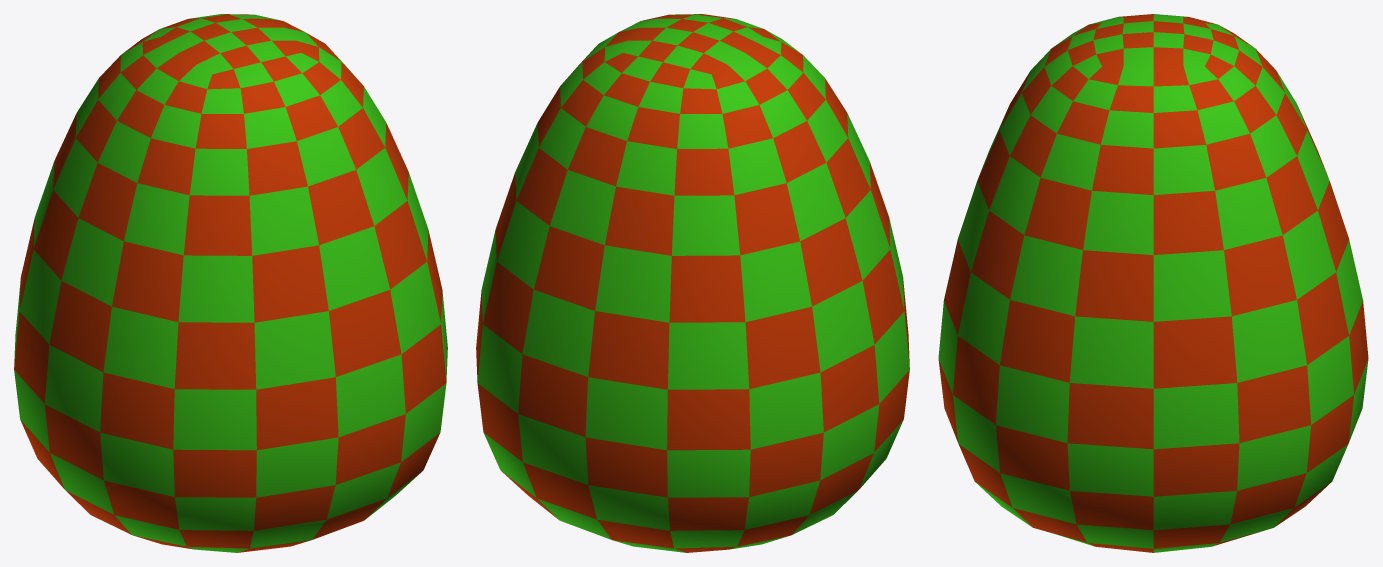
File: huevotres.fbx
The picture shows the model from 3 angles, left to right: view 1: azimuth 30°, elevation 25°; view 2: azimuth 150°, elevation 25°; view 3: azimuth 270°, elevation 25°; orthographic projection.
Parts seen in each view (by area): view 1: Mesh (3); view 2: Mesh (3); view 3: Mesh (3).
Part boxes in pixels (<box>): Mesh (3): <box>14,14,447,552</box>; Mesh (3): <box>476,14,909,552</box>; Mesh (3): <box>938,14,1368,552</box>.
Bounding box in the file's own units: 110 × 138 × 110.
